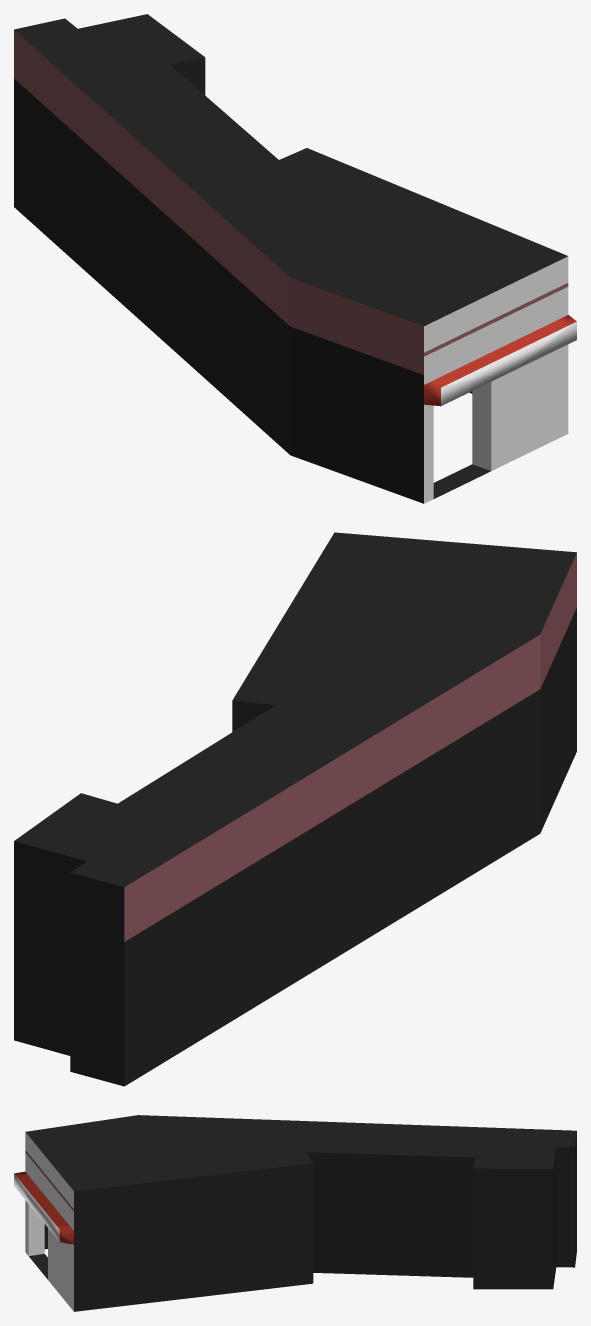
File: Cex.fbx
3 renders of one model, top to bottom at view 1: azimuth 30°, elevation 25°; view 2: azimuth 150°, elevation 25°; view 3: azimuth 270°, elevation 25°, orthographic. The views are drawn at different scales.
Parts seen in each view (by area): view 1: CeX Sheffield; view 2: CeX Sheffield; view 3: CeX Sheffield.
Part boxes in pixels (x1,y1,x2,y2): CeX Sheffield: (14, 14, 576, 503); CeX Sheffield: (14, 532, 576, 1086); CeX Sheffield: (14, 1115, 576, 1311).
Size of the model in its own units: 1028 by 756 by 3204.
